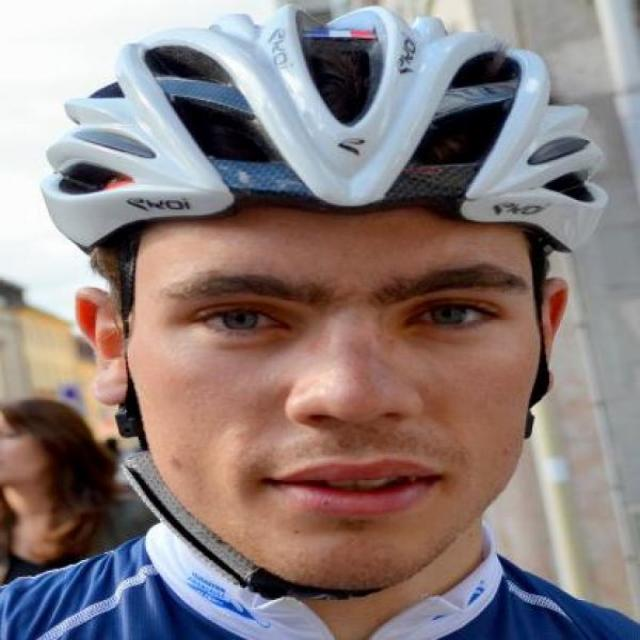Helmet: (48, 14, 593, 580)
